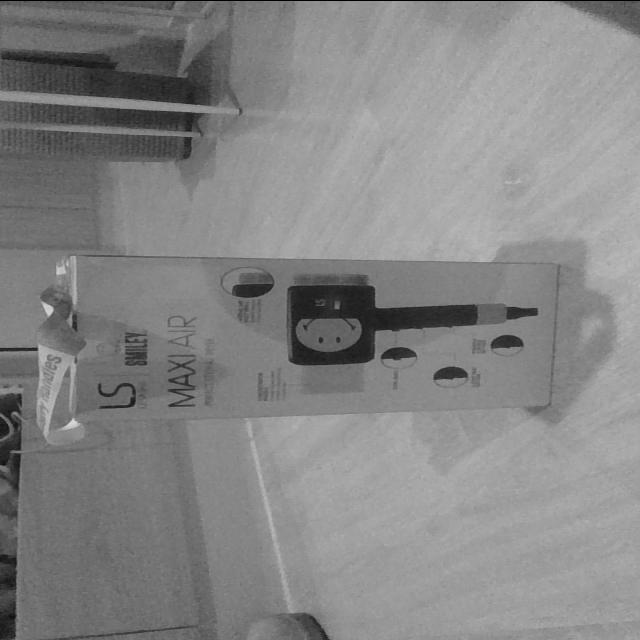IRON: (38, 250, 566, 438)
